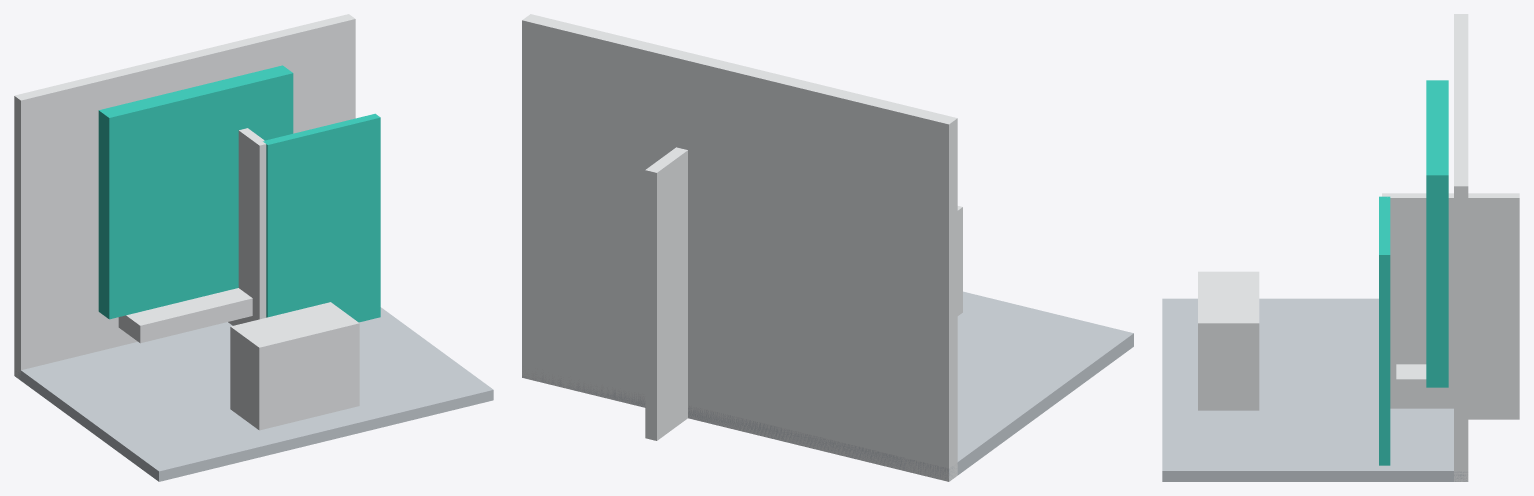
3 views of the same model, side by side, from view 1: azimuth 30°, elevation 25°; view 2: azimuth 150°, elevation 25°; view 3: azimuth 270°, elevation 25° (orthographic). The views are drawn at different scales.
Parts seen in each view (by area): view 1: Exhibition Booth Concept; view 2: Exhibition Booth Concept; view 3: Exhibition Booth Concept.
Boxes of the visible parts, x1,y1,x2,y2 form: Exhibition Booth Concept: [14, 14, 493, 481]; Exhibition Booth Concept: [522, 14, 1133, 481]; Exhibition Booth Concept: [1162, 14, 1519, 481].
Bounding box in the file's own units: 4 × 3.2 × 3.51.
